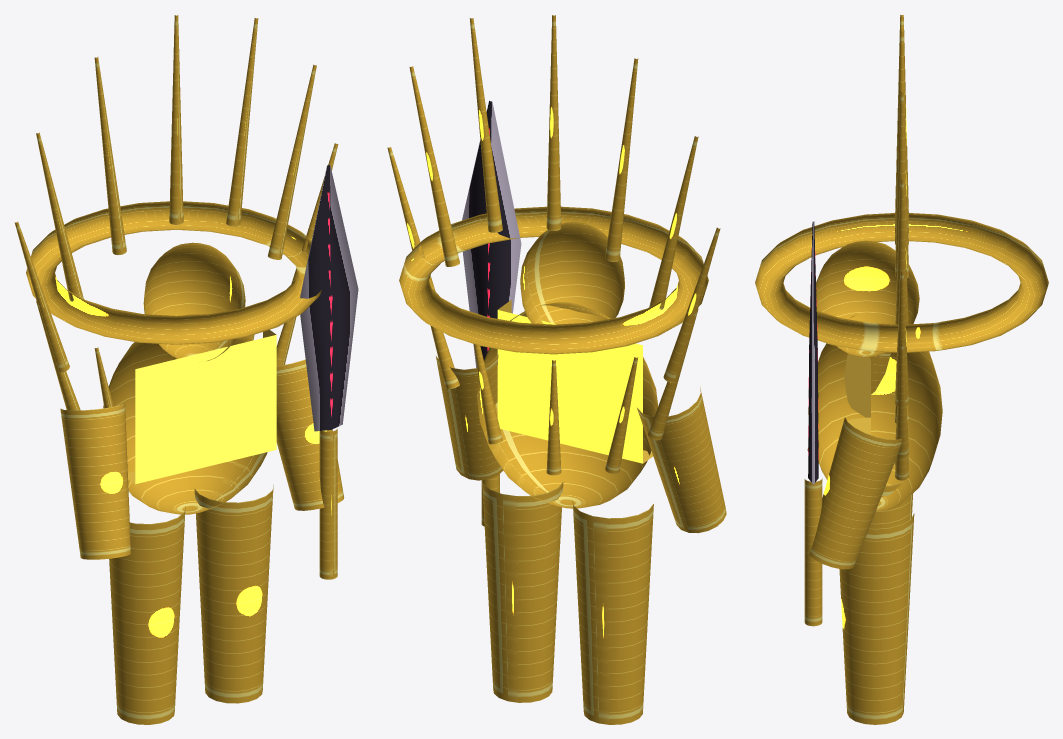
Rendered from boss_surya_avatara.glb.
3 views of the same model, side by side, from view 1: azimuth 30°, elevation 25°; view 2: azimuth 150°, elevation 25°; view 3: azimuth 270°, elevation 25° (orthographic). The views are drawn at different scales.
Parts seen in each view (by area): view 1: Node_BossSuryaAvatara; view 2: Node_BossSuryaAvatara; view 3: Node_BossSuryaAvatara.
Part boxes in pixels (<box>): Node_BossSuryaAvatara: <box>14,15,358,724</box>; Node_BossSuryaAvatara: <box>387,15,726,724</box>; Node_BossSuryaAvatara: <box>755,15,1048,724</box>.
Size of the model in its own units: 2.06 by 4.12 by 1.66.
Materials: 2 (2 with a texture image).
